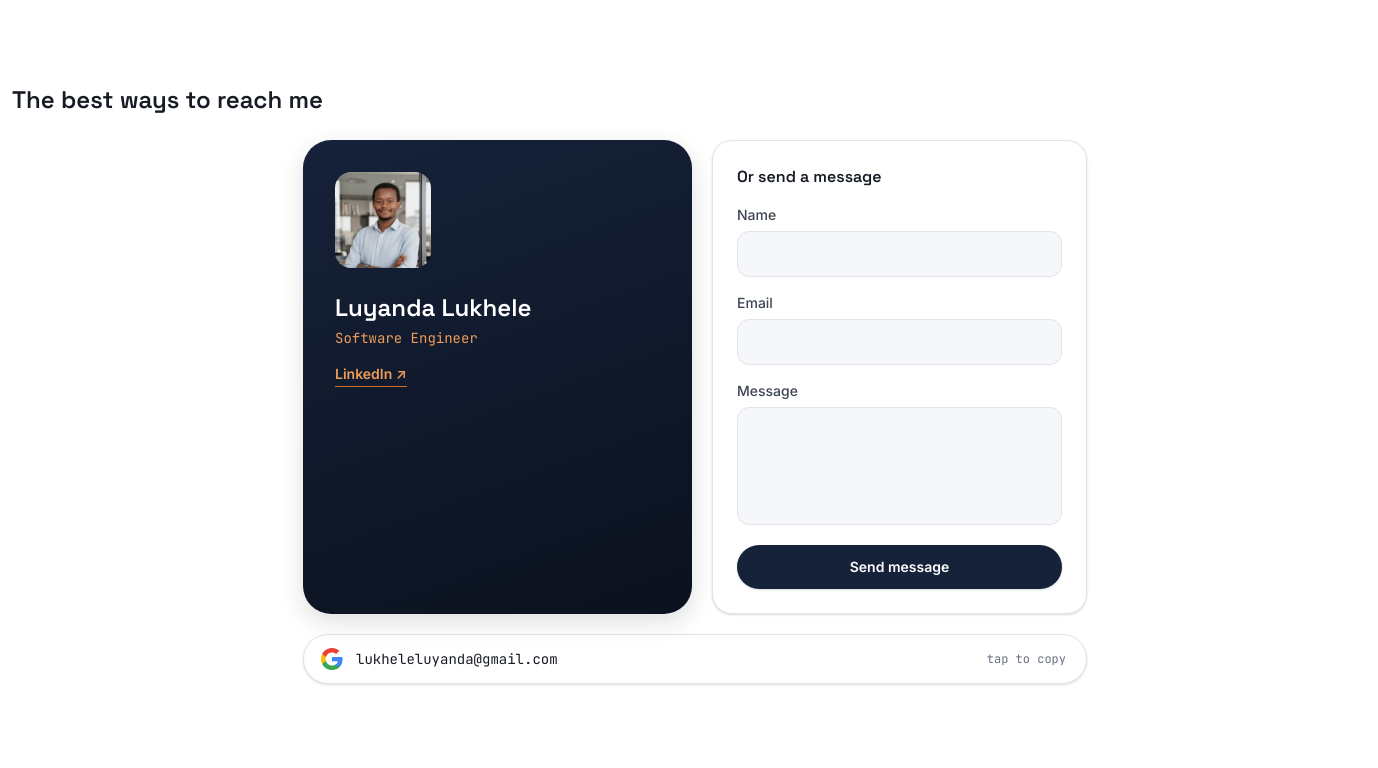
Test: tapping the email pill copies the real address and shows confirmation
Click the button "lukheleluyanda@gmail.com tap to copy" at (457,659), box top-left (303, 634), bottom-right (1087, 684)
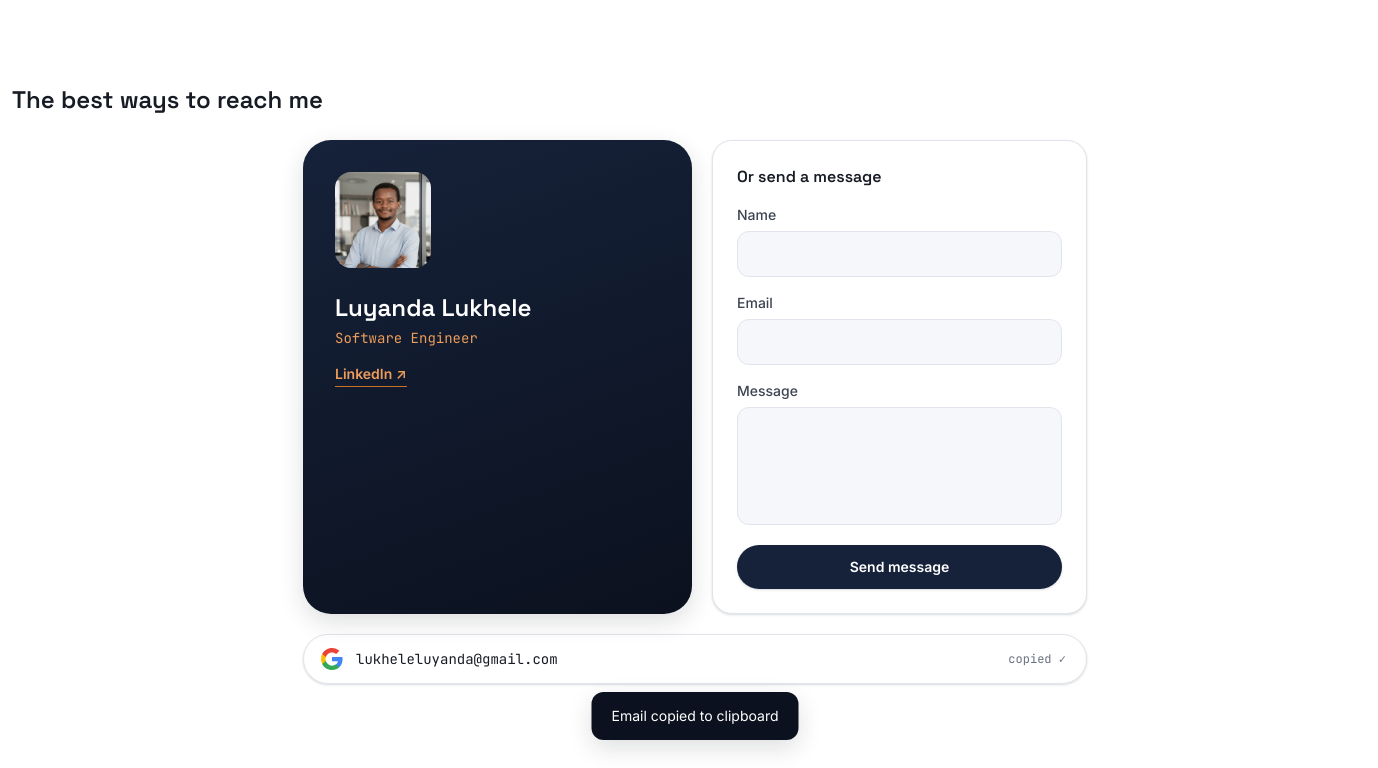
Now the text "copied ✓" is shown, box top-left (1008, 651), bottom-right (1066, 667)
Now the message with test id "snackbar" reads "Email copied to clipboard", box top-left (612, 707), bottom-right (778, 724)
